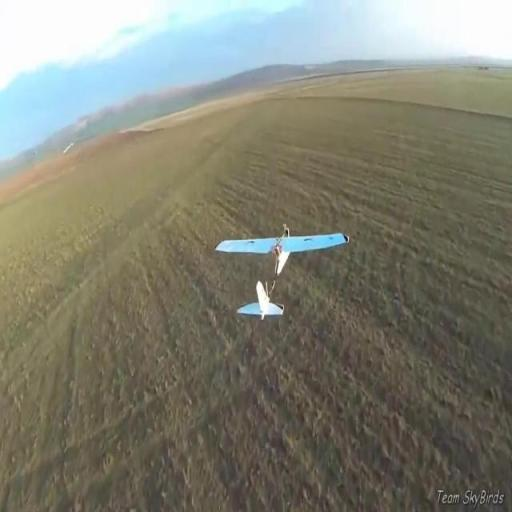uav: (214, 229, 350, 320)
